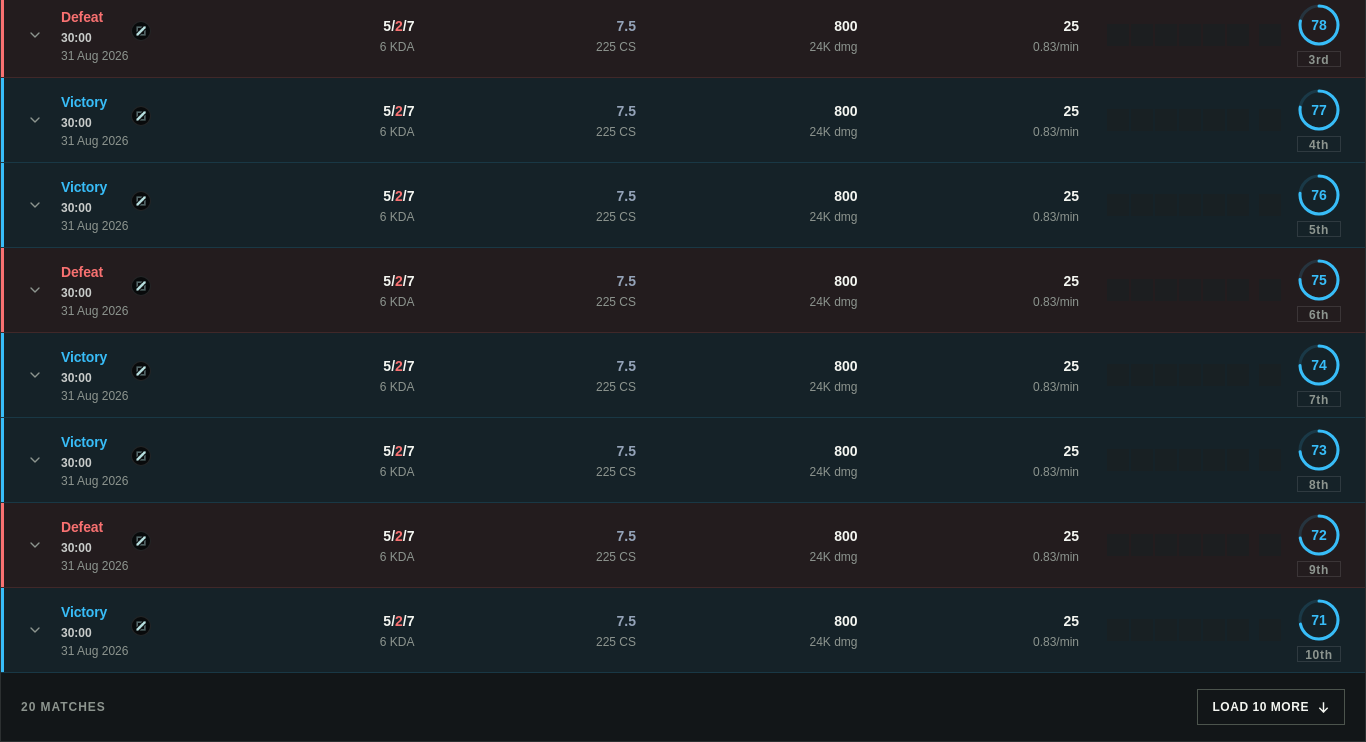
Test case: MatchHistory › shows 20 matches and loads 10 more until the history ends
(page scrolled)
Click the button "Load 10 more" at (1271, 707), box [1198,689,1345,725]
(page scrolled)
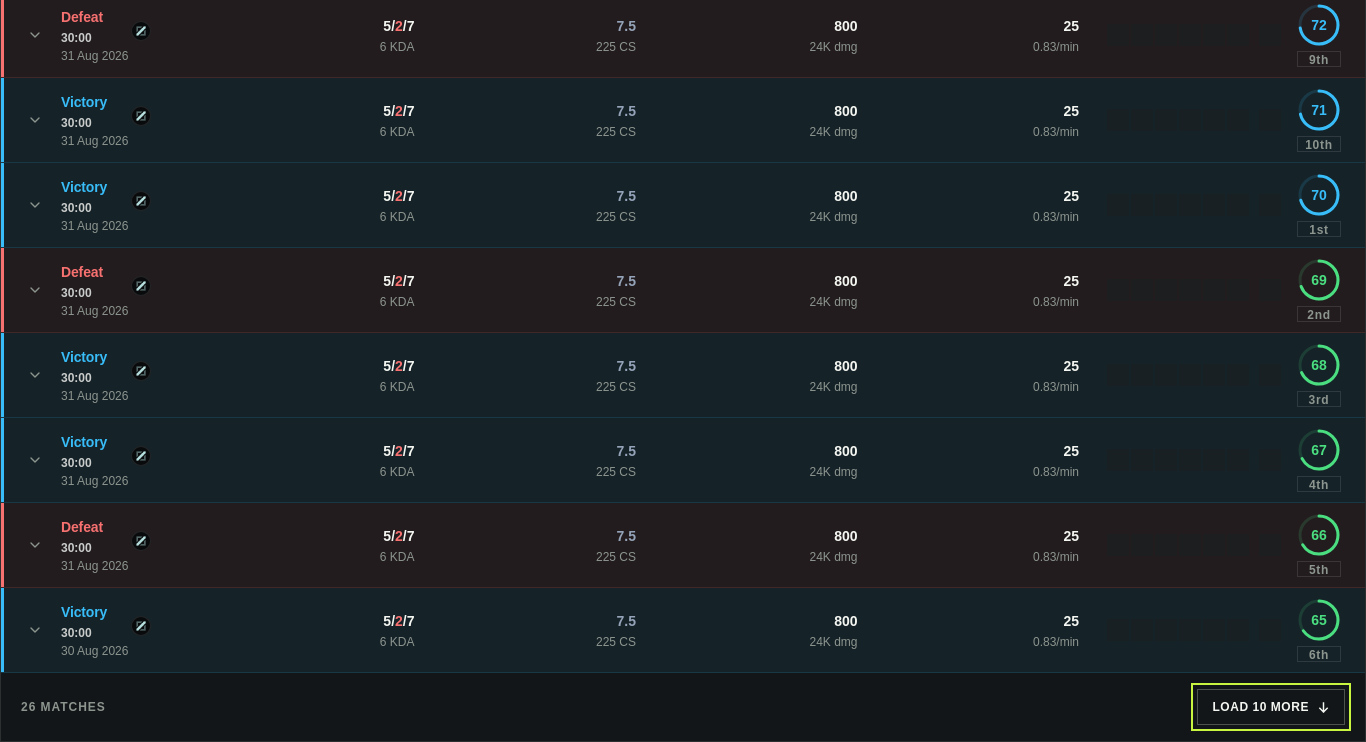
Click the button "Load 10 more" at (1271, 707), box [1198,689,1345,725]
(page scrolled)
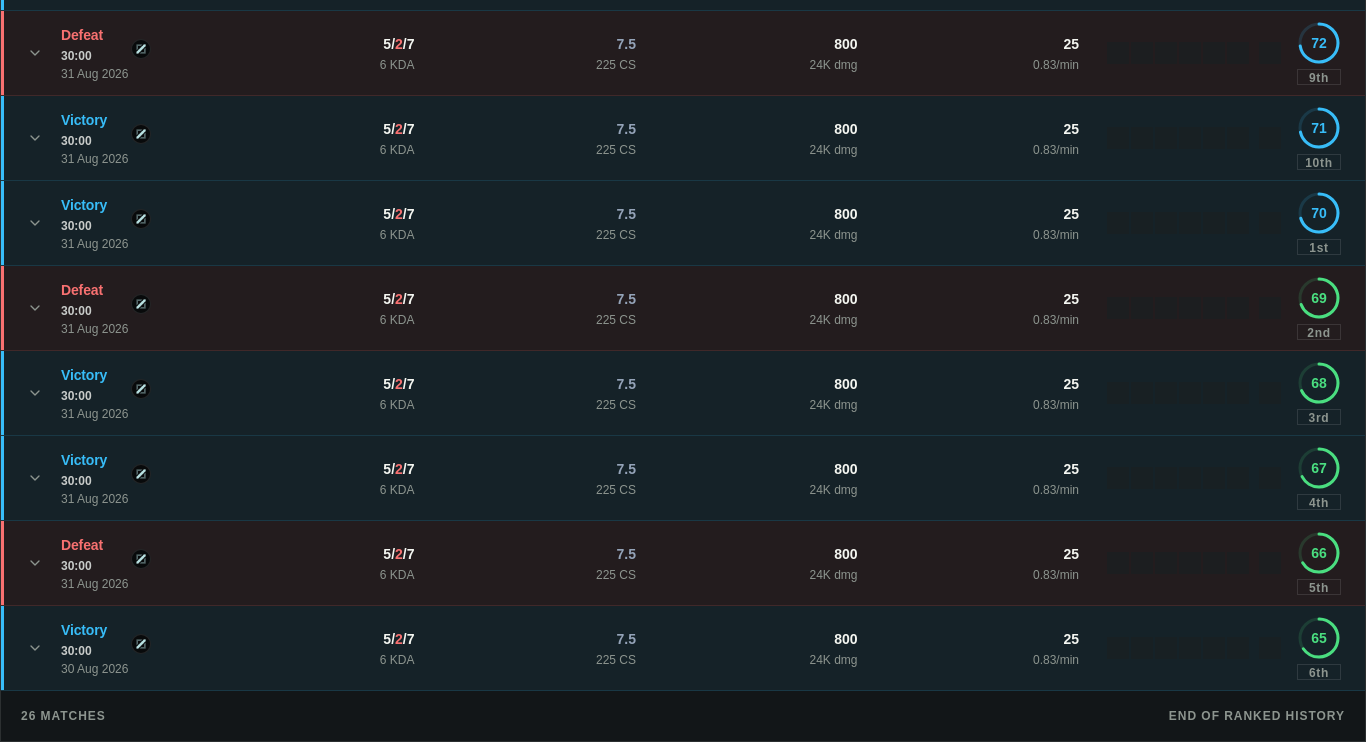
Expected: the text "End of ranked history" is shown, [1169,707,1345,725]
